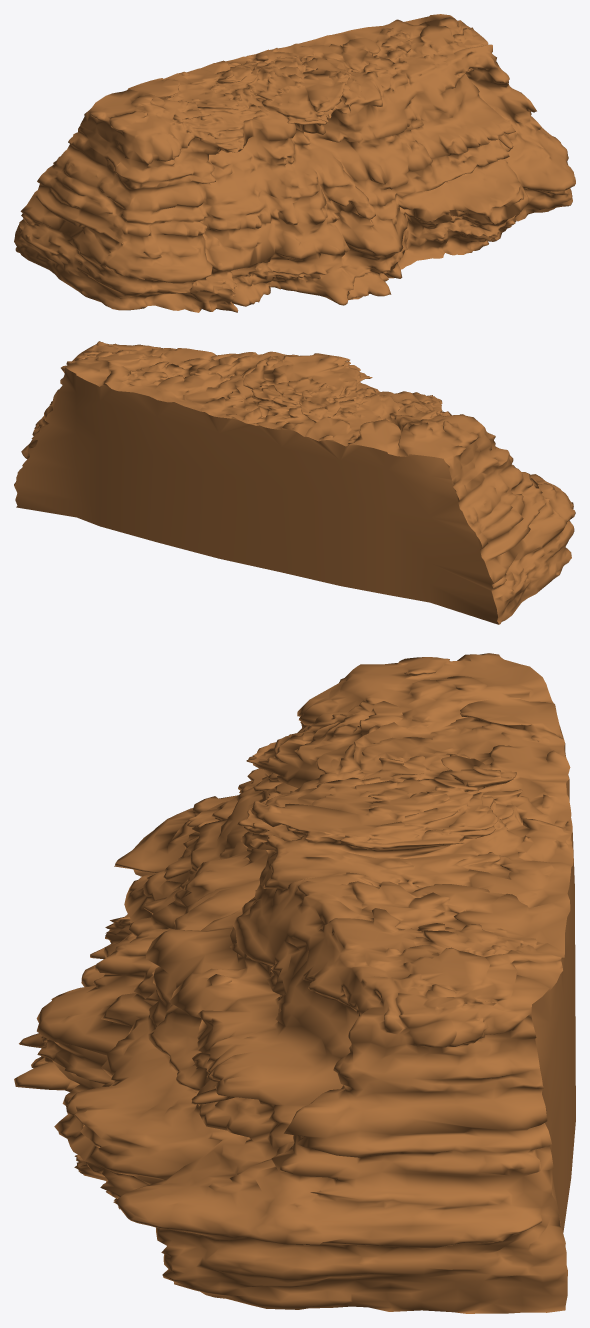
File: MSH_Rocks_Cliff_32_b.FBX
The picture shows the model from 3 angles, top to bottom: view 1: azimuth 30°, elevation 25°; view 2: azimuth 150°, elevation 25°; view 3: azimuth 270°, elevation 25°; orthographic projection. The views are drawn at different scales.
Parts seen in each view (by area): view 1: MESH_LOD0; view 2: CAP_LOD0, MESH_LOD0; view 3: MESH_LOD0, CAP_LOD0.
Part boxes in pixels (left/top/right/bottom): MESH_LOD0: left=14, top=14, right=575, bottom=312; CAP_LOD0: left=14, top=367, right=498, bottom=624; MESH_LOD0: left=14, top=341, right=575, bottom=624; MESH_LOD0: left=14, top=653, right=573, bottom=1313; CAP_LOD0: left=531, top=725, right=575, bottom=1232.
Bounding box in the file's own units: 437 × 131 × 227.
